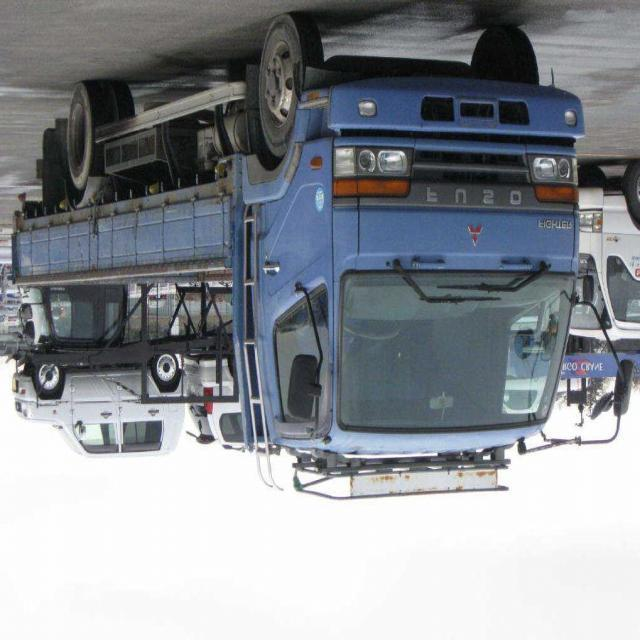truck: (10, 12, 630, 498)
